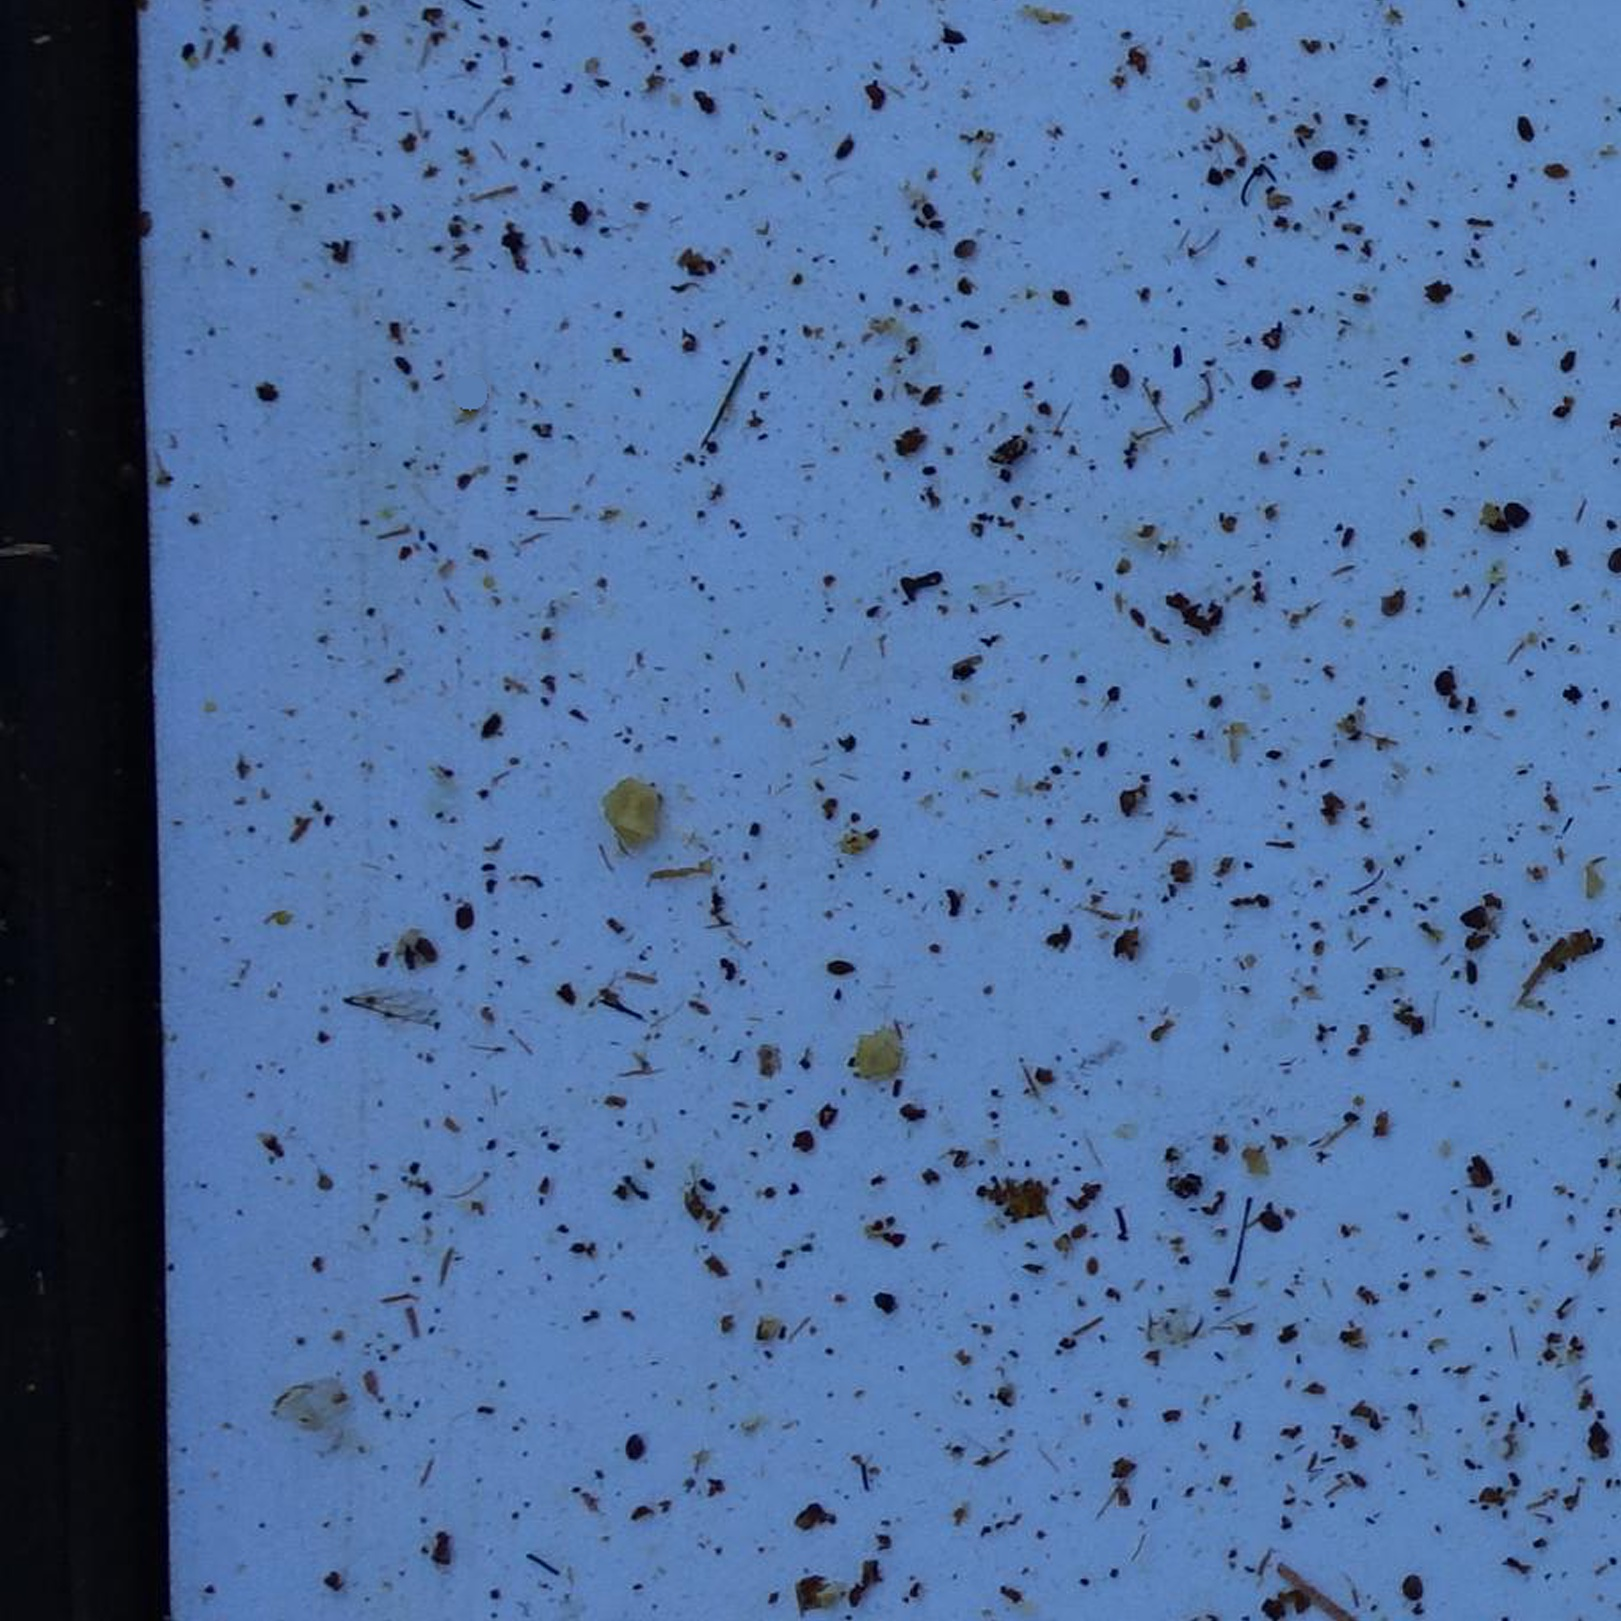Varroa: (1369, 583, 1415, 629), (1106, 365, 1139, 399), (622, 1430, 655, 1462), (1397, 1571, 1430, 1602), (1306, 143, 1339, 174), (1248, 361, 1280, 393), (566, 200, 597, 232), (1432, 664, 1462, 695), (1251, 1210, 1280, 1240), (954, 235, 980, 261)
